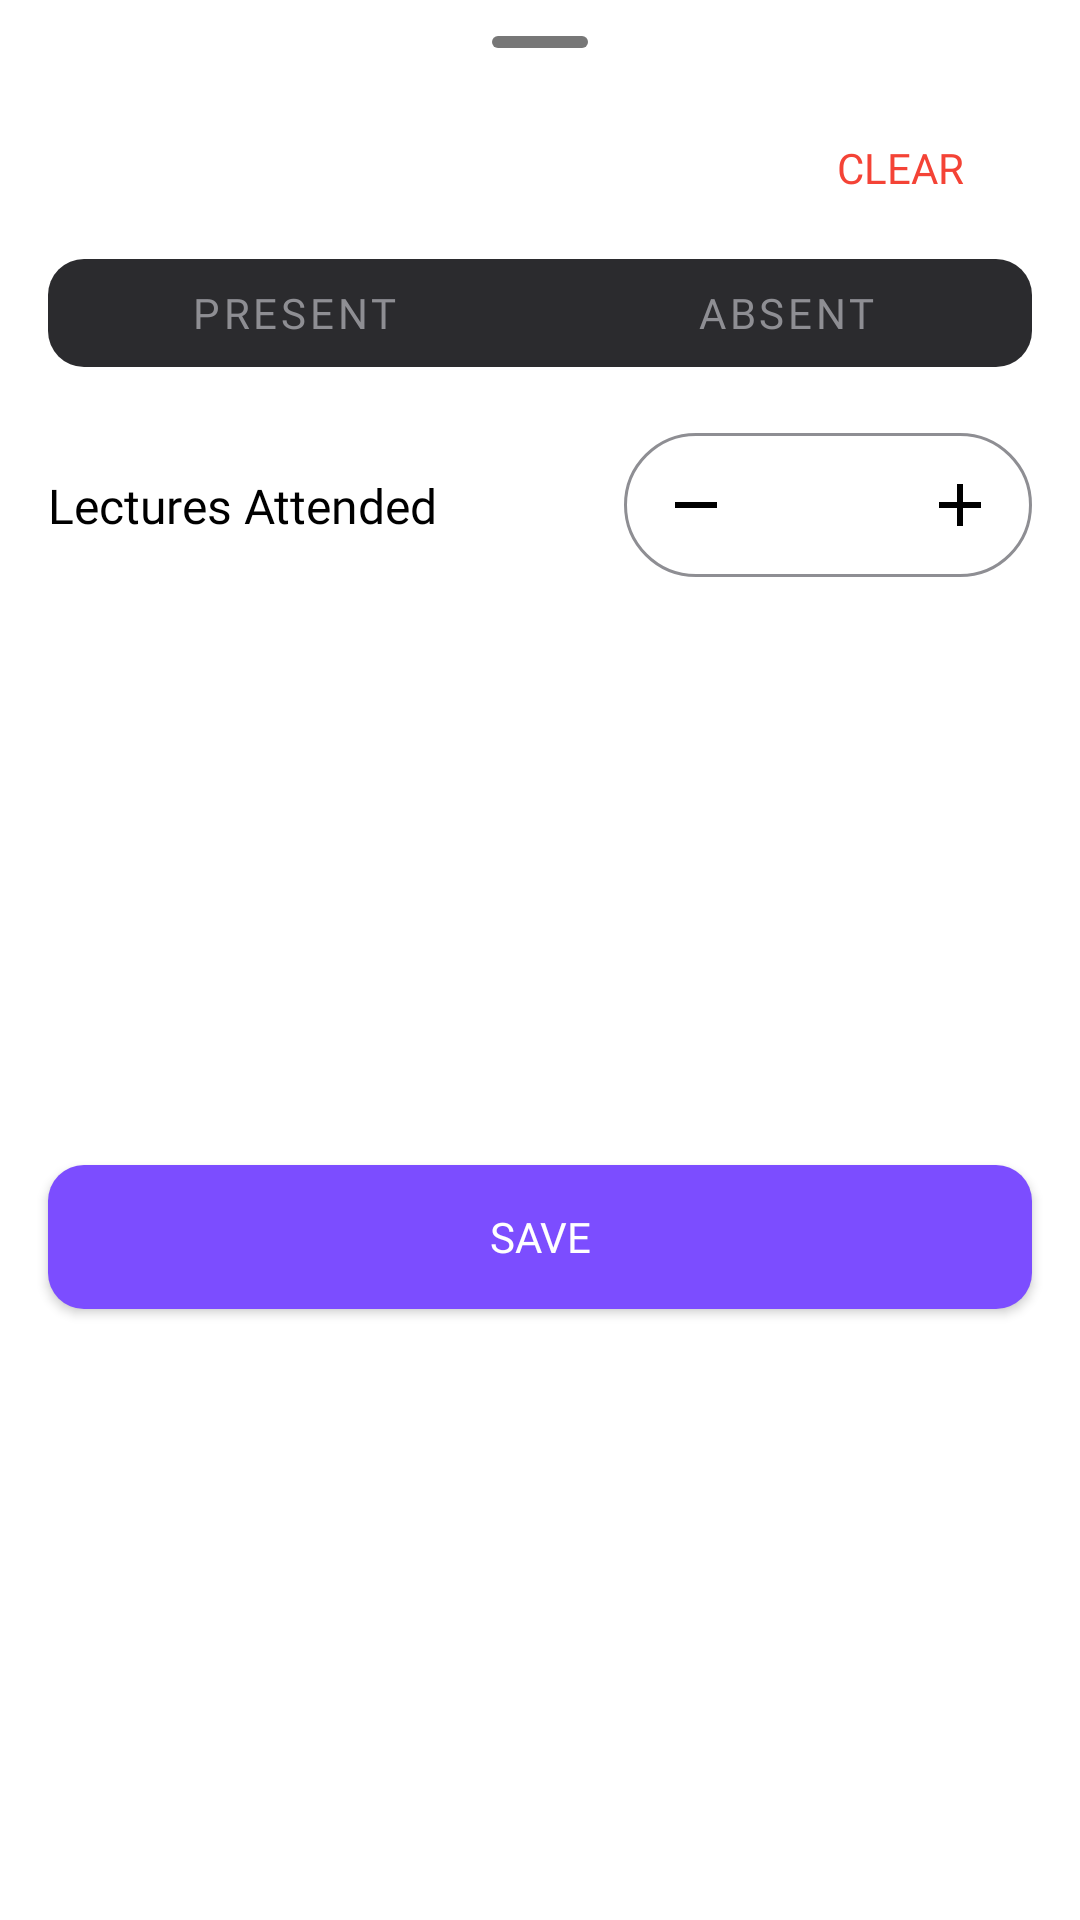

Icon click points for this 1080 × 1920 phone screenshot, format point (x, y):
Increase lectures: point (960, 505)
remove: point (696, 505)
